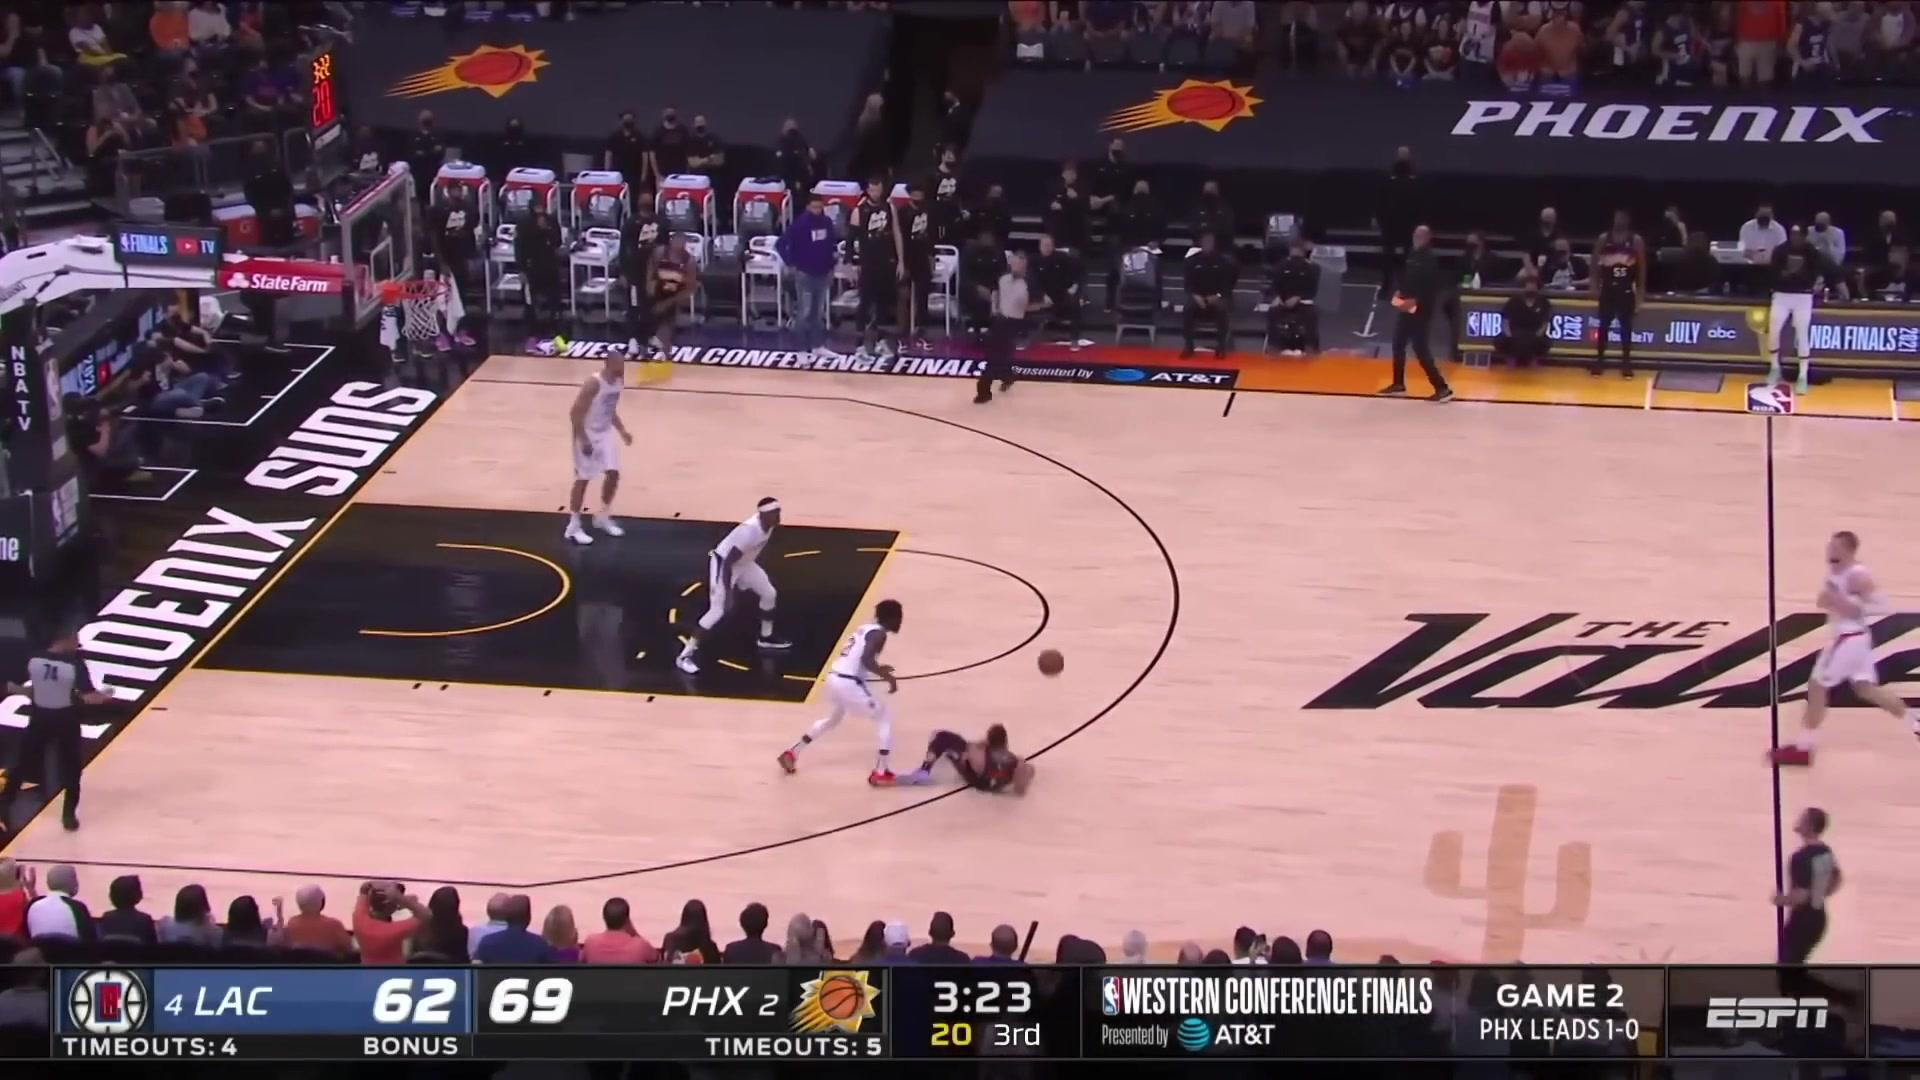foul: (784, 564, 1069, 812)
